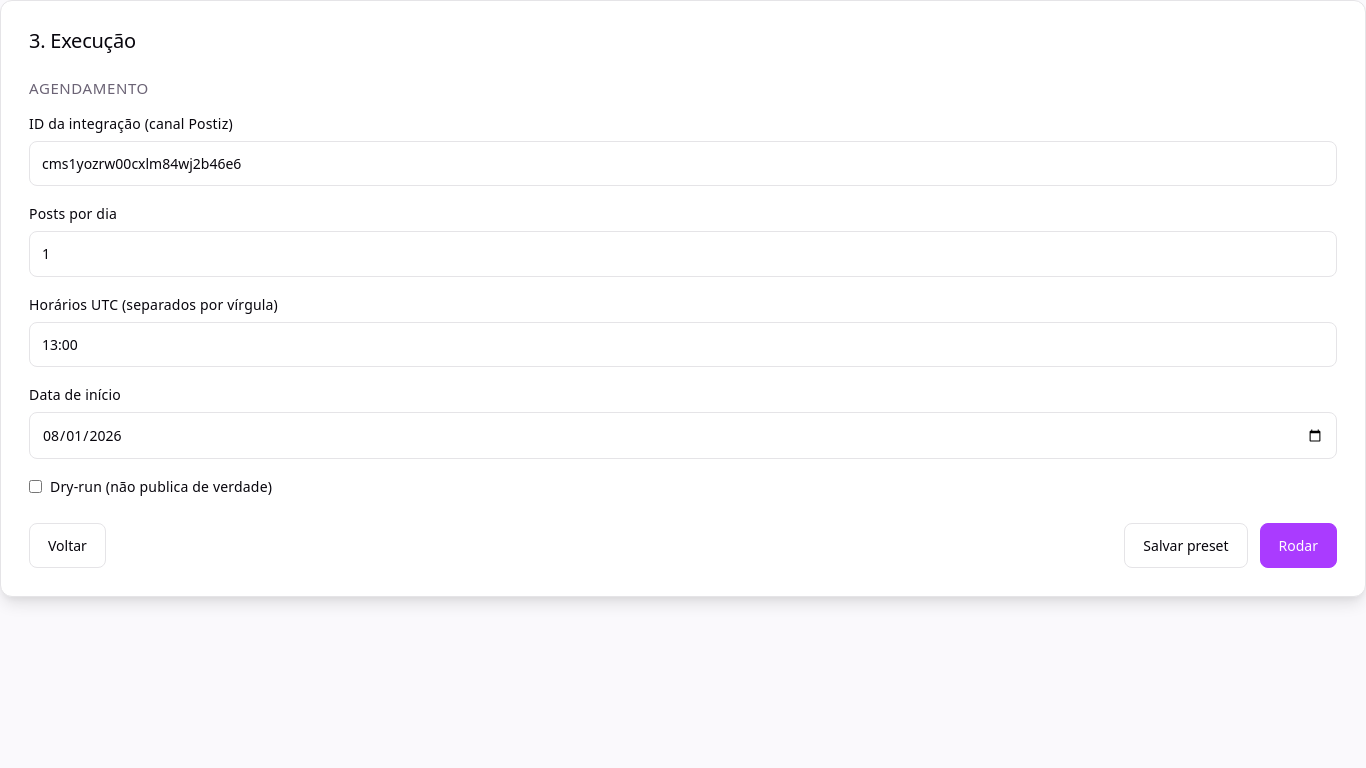
ExecuteStep › shows an inline error and does not report a run id when starting fails
What coordinates should you click on to do the following:
click the button "Rodar"
I would click on:
 (1298, 545)
Its box is left=1260, top=523, right=1337, bottom=568.
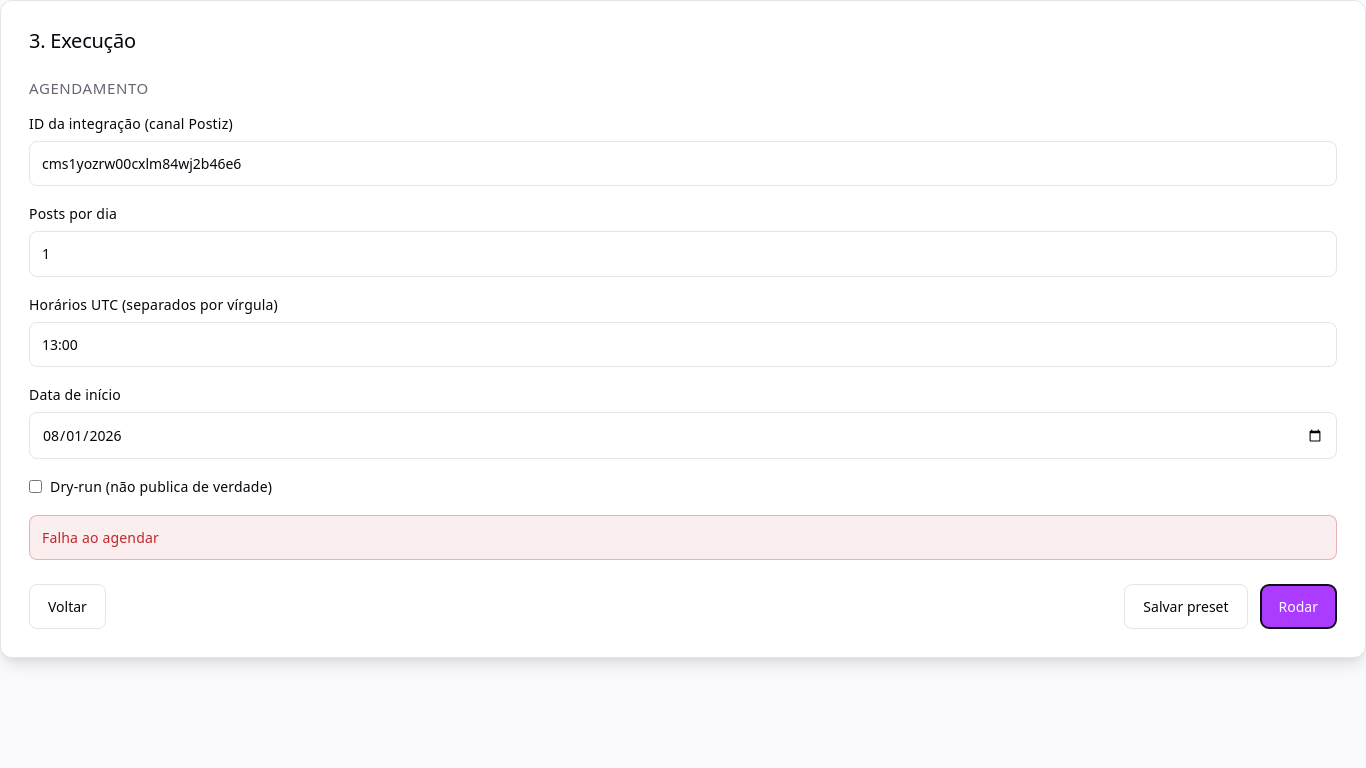
Expected: the text "Falha ao agendar" is shown, left=29, top=515, right=1337, bottom=560
